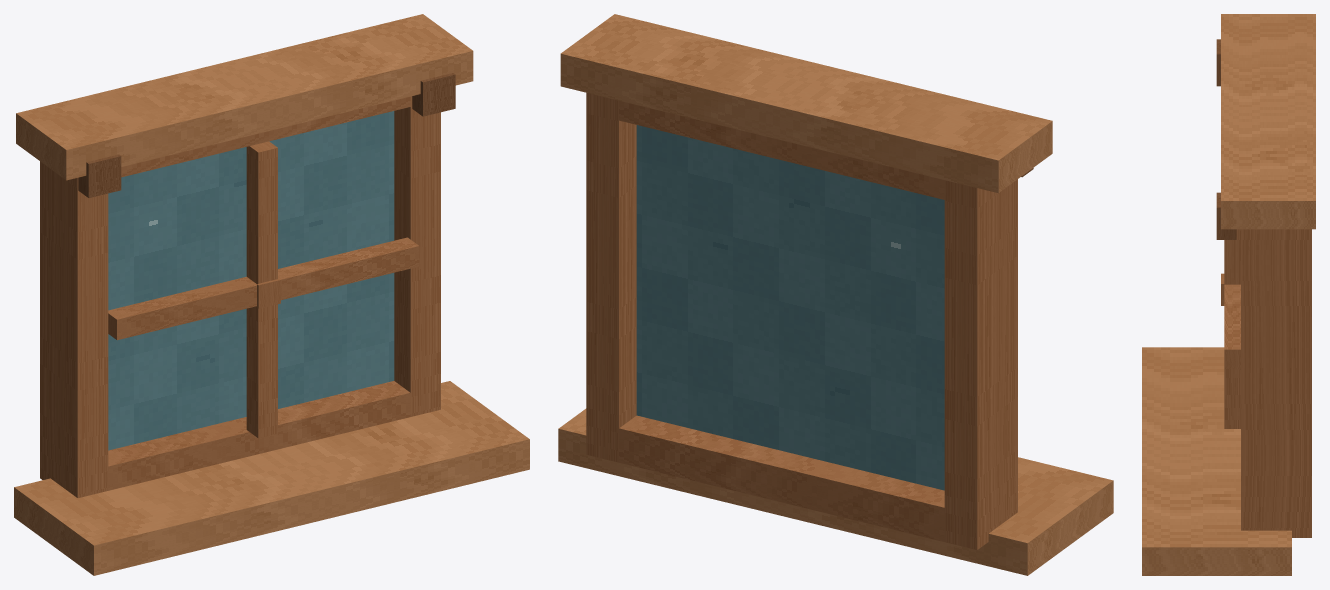
The model's file is Window_03_FourPaneWood.fbx.
The picture shows the model from 3 angles, left to right: view 1: azimuth 30°, elevation 25°; view 2: azimuth 150°, elevation 25°; view 3: azimuth 270°, elevation 25°; orthographic projection. The views are drawn at different scales.
Parts seen in each view (by area): view 1: Window_03_FourPaneWood; view 2: Window_03_FourPaneWood; view 3: Window_03_FourPaneWood.
Boxes of the visible parts, box(x1,y1,x2,y2) form: Window_03_FourPaneWood: box(14, 14, 529, 575); Window_03_FourPaneWood: box(558, 14, 1113, 575); Window_03_FourPaneWood: box(1142, 14, 1315, 575).
Bounding box in the file's own units: 60 × 51.5 × 22.
Materials: 4 (4 with a texture image).
